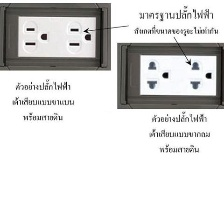three_eye_plug: (115, 41, 224, 111), (0, 2, 110, 70)
